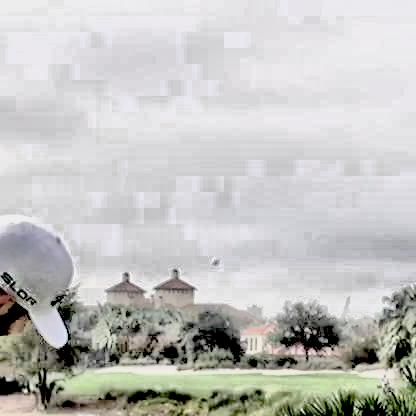golfball: (207, 255, 219, 265)
